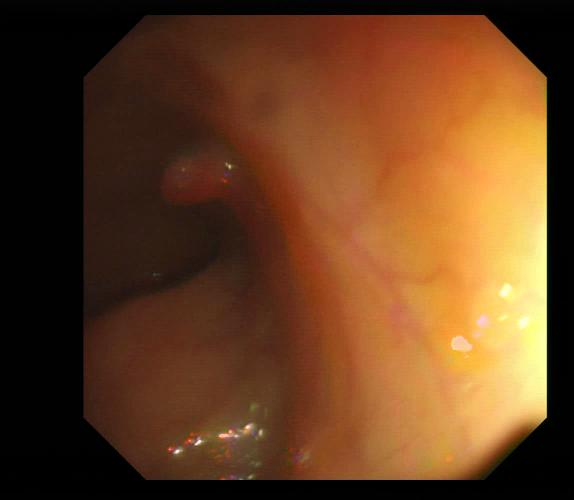polyp: (157, 144, 231, 208)
